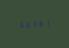eight: (36, 19, 41, 27)
one: (42, 19, 47, 27)
six: (24, 20, 29, 28), (18, 21, 23, 28)
three: (30, 20, 35, 27)
